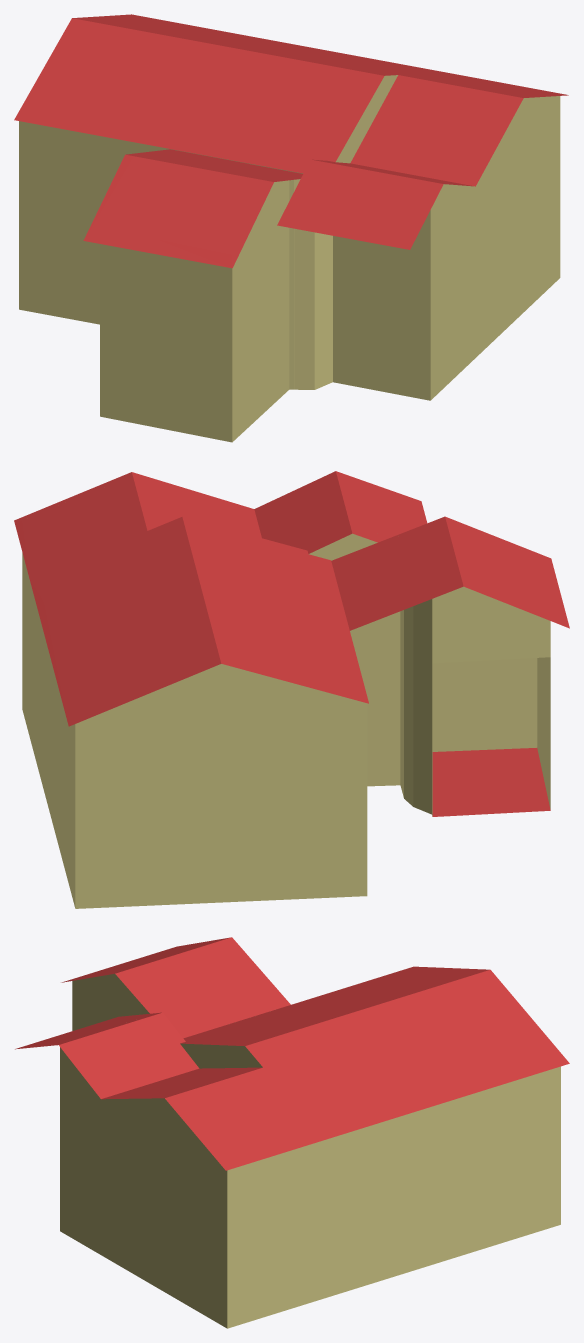
3 renders of one model, top to bottom at view 1: azimuth 30°, elevation 25°; view 2: azimuth 150°, elevation 25°; view 3: azimuth 270°, elevation 25°, orthographic. The views are drawn at different scales.
Bounding box in the file's own units: 20.39 × 21.36 × 8.91.
